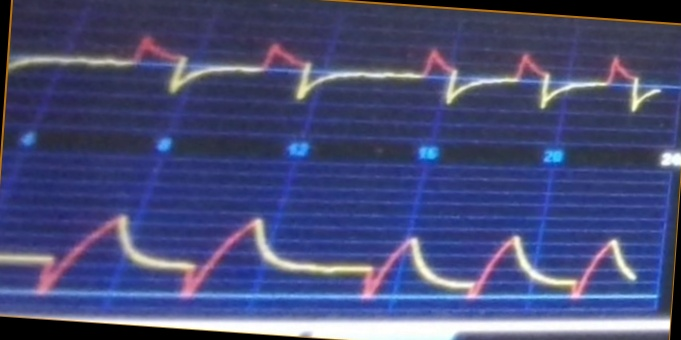Flow: (14, 29, 669, 122)
Leakage Volume: (1, 199, 639, 312)
